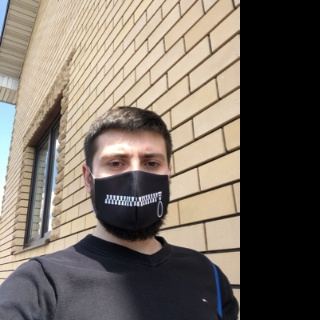with_mask: (90, 142, 174, 241)
